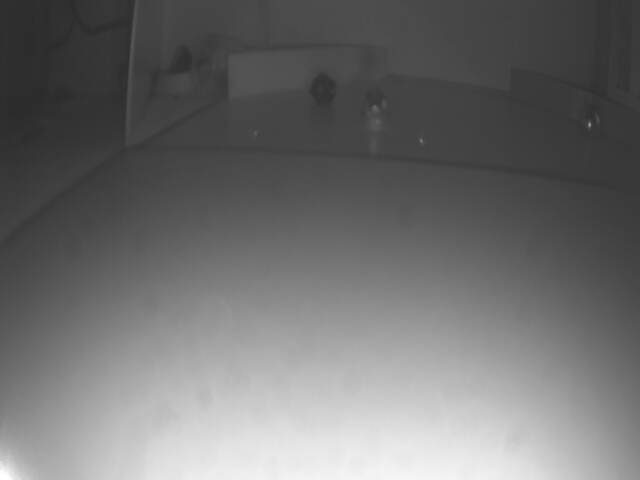Green: (511, 68, 640, 142)
Red: (225, 43, 380, 102)
